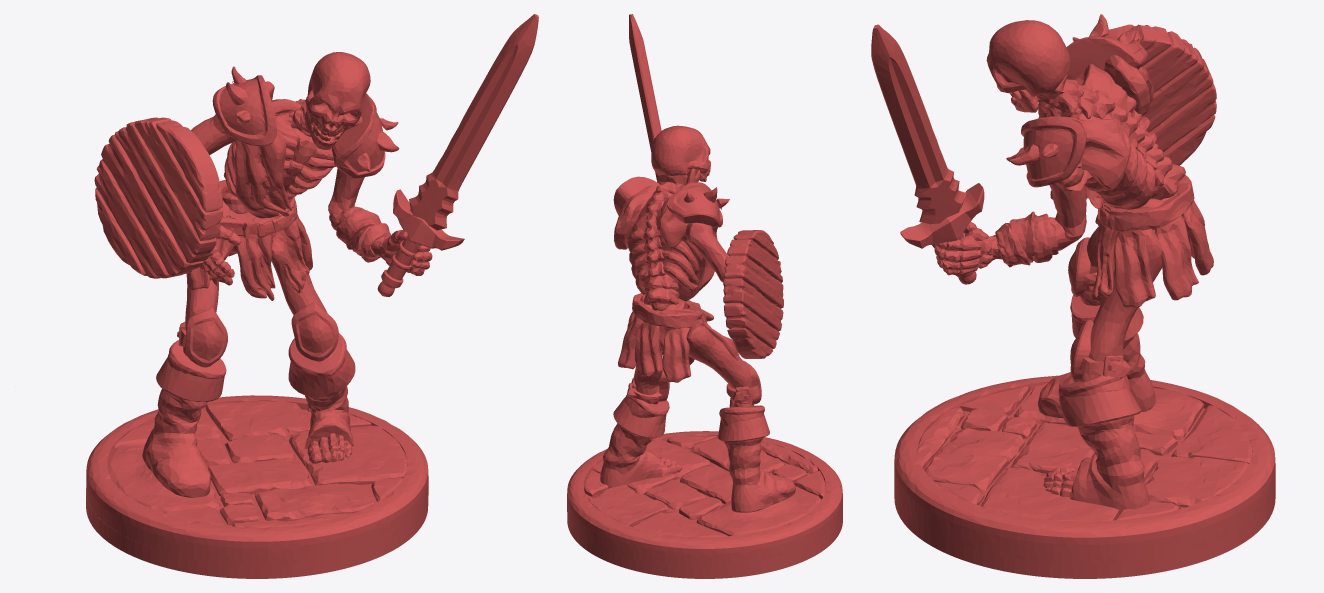
File: skeleton.glb
The picture shows the model from 3 angles, left to right: view 1: azimuth 30°, elevation 25°; view 2: azimuth 150°, elevation 25°; view 3: azimuth 270°, elevation 25°; orthographic projection. The views are drawn at different scales.
Parts seen in each view (by area): view 1: skeleton; view 2: skeleton; view 3: skeleton.
Boxes of the visible parts, box(x1,y1,x2,y2) form: skeleton: box(86, 14, 538, 578); skeleton: box(567, 14, 842, 578); skeleton: box(871, 14, 1275, 578).
Size of the model in its own units: 35.45 by 52 by 36.
